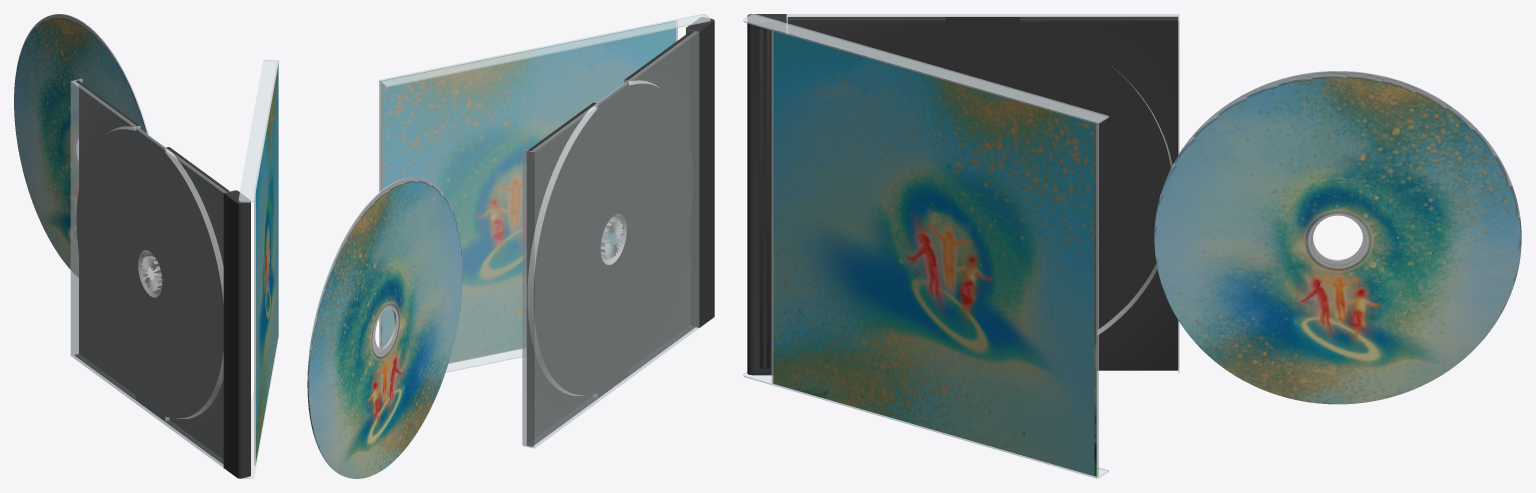
File: Donda (Pio Pico sessions).glb
3 renders of one model, left to right at view 1: azimuth 30°, elevation 25°; view 2: azimuth 150°, elevation 25°; view 3: azimuth 270°, elevation 25°, orthographic. The views are drawn at different scales.
Parts seen in each view (by area): view 1: Case Back_2, CD_1, Case Front_0; view 2: Case Back_2, Case Front_0, CD_1; view 3: Case Front_0, CD_1, Case Back_2.
Part boxes in pixels (x1,y1,x2,y2): Case Back_2: (70,78,250,478); CD_1: (14,14,148,277); Case Front_0: (238,60,278,478); Case Back_2: (522,17,714,448); Case Front_0: (379,14,710,372); CD_1: (307,177,462,478); Case Front_0: (743,14,1108,478); CD_1: (1154,71,1521,404); Case Back_2: (747,14,1179,375).
Size of what is drawn, in the model's own units: 1.33 by 2 by 3.96.
Materials: 7 (3 with a texture image).
